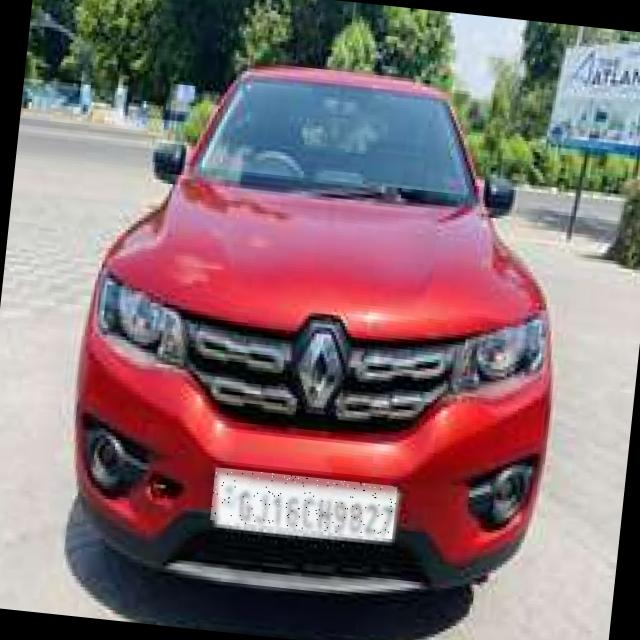Plate: (211, 468, 399, 540)
